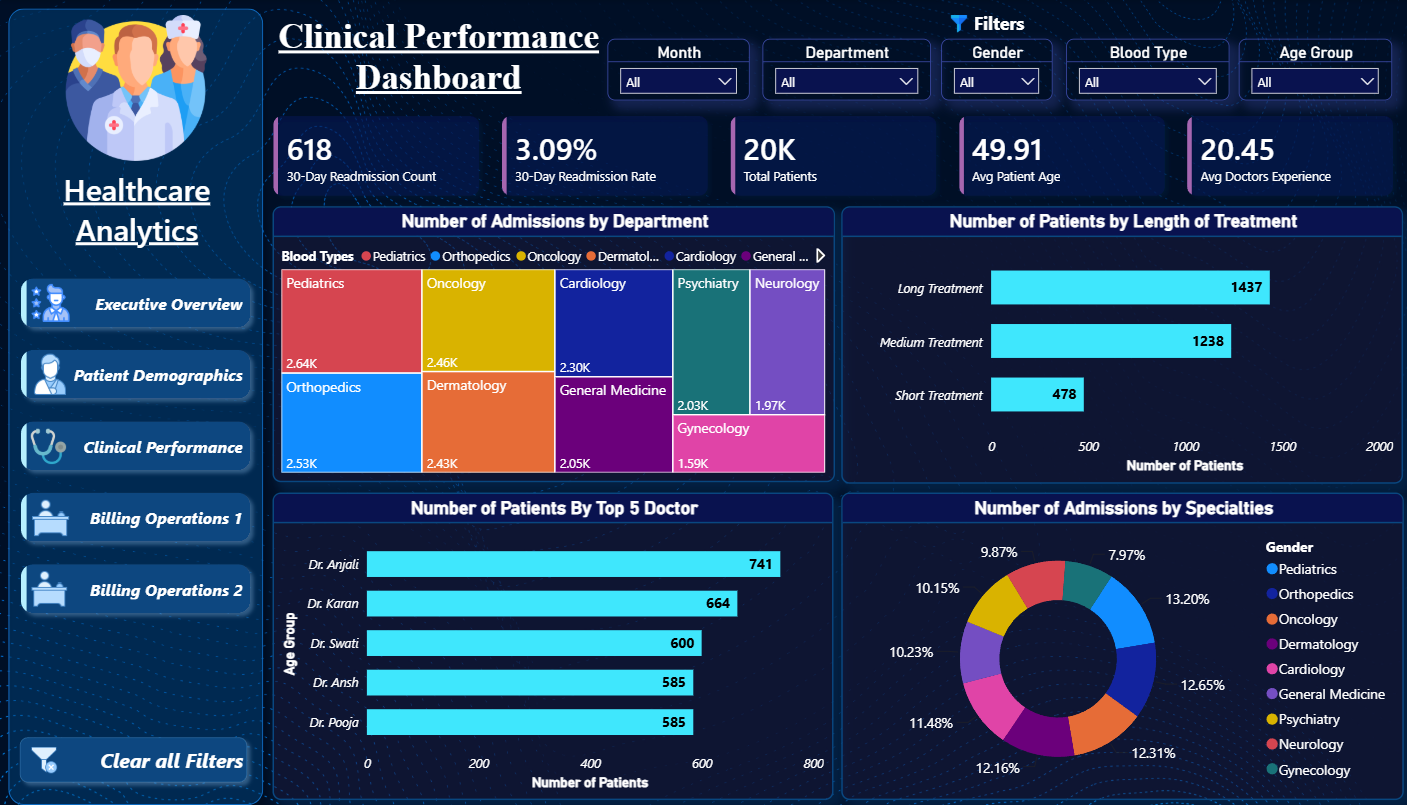

What the dashboard file says about the page in this screenshot:
{"tool":"powerbi","page":{"name":"Clinical Performance","canvas":[1500,860],"ordinal":2},"visuals":[{"type":"group","id":"g1","title":"Group 2","box":[0,0,288.9,865.2],"z":0,"group":"g5"},{"type":"shape","box":[0,0,288.9,865.2],"z":0,"group":"g1"},{"type":"group","id":"g2","title":"Group 4","box":[626.7,0,874.1,125.3],"z":0,"group":"g4"},{"type":"group","id":"g3","title":"Group 3","box":[626.7,0,874.1,125.3],"z":0,"group":"g2"},{"type":"shape","box":[626.7,0,874.1,125.3],"z":0,"group":"g3"},{"type":"cardVisual","fields":{"Data":["measures_.30-Day Readmission Count","measures_.30-Day Readmission Rate","measures_.Total Patients","measures_.Avg Patient Age","measures_.Avg Doctors Experience"]},"box":[273.6,107,1225.9,119.2],"z":0},{"type":"pageNavigator","box":[13.9,287.4,262.3,374.7],"z":0,"group":"g6"},{"type":"group","id":"g4","title":"Group 5","box":[626.7,0,874.3,125.3],"z":1000},{"type":"textbox","box":[633.8,6.7,859.3,41.6],"z":1000,"group":"g2"},{"type":"image","box":[1001.5,16.2,37.4,18.7],"z":1000,"group":"g4"},{"type":"image","box":[58.1,16.6,172.7,155.2],"z":1000,"group":"g1"},{"type":"slicer","title":"Department","fields":{"Values":["admissions.department"]},"box":[812,41.3,179,65.3],"z":1000,"group":"g3"},{"type":"image","box":[30.6,300.7,46.7,43.3],"z":1000,"group":"g6"},{"type":"actionButton","box":[12.2,774.8,259.9,66.2],"z":1000,"group":"g5"},{"type":"group","id":"g5","title":"Group 6","box":[0,0,288.9,865.2],"z":2000},{"type":"slicer","title":"Gender","fields":{"Values":["patients.gender"]},"box":[1001.5,41.3,118.2,65.3],"z":2000,"group":"g3"},{"type":"textbox","box":[16.7,168.3,256.7,116.7],"z":2000,"group":"g1"},{"type":"image","box":[29.6,375.8,48.9,46.7],"z":2000,"group":"g6"},{"type":"image","box":[24.5,793.4,45.4,28.5],"z":2000,"group":"g5"},{"type":"textbox","box":[285.3,0,361.7,125.4],"z":3000},{"type":"slicer","title":"Age Group","fields":{"Values":["patients.age_group"]},"box":[1318.3,41.3,162.9,65.3],"z":3000,"group":"g3"},{"type":"image","box":[30.6,530.7,46.7,41.1],"z":3000,"group":"g6"},{"type":"slicer","title":"Blood Type","fields":{"Values":["patients.bloodtype"]},"box":[1135.1,41.3,173.4,65.3],"z":4000,"group":"g3"},{"type":"treemap","title":"Number of Admissions by Department","fields":{"Group":["admissions.department"],"Values":["CountNonNull(admissions.admissionid)"]},"box":[289.6,219,598,294],"z":4000},{"type":"image","box":[30,606.6,46.7,40],"z":4000,"group":"g6"},{"type":"slicer","title":"Month","fields":{"Values":["Calendar.Month"]},"box":[647,41.3,151.1,65.3],"z":5000,"group":"g3"},{"type":"clusteredBarChart","title":"Number of Patients by Length of Treatment","fields":{"Category":["admissions.stay_category"],"Y":["measures_.Total Admissions"]},"box":[895.4,219.1,597.4,295],"z":5000},{"type":"image","box":[28.9,456.6,47.8,37.8],"z":5000,"group":"g6"},{"type":"clusteredBarChart","title":"Number of Patients By Top 5 Doctor ","fields":{"Category":["doctors.firstname"],"Y":["measures_.Total Admissions"]},"box":[289.6,524.5,596.6,327.1],"z":6000},{"type":"donutChart","title":"Number of Admissions by Specialties","fields":{"Y":["measures_.Total Admissions"],"Category":["doctors.specialty"]},"box":[894.9,524.5,598,327.1],"z":7000},{"type":"group","id":"g6","title":"Group 1","box":[13.9,287.4,262.3,374.7],"z":8000}]}

Visuals, with their boxes in screenshot pixels (x1, y1, x2, y2), scaled from the page's 1500x860 canvas onto the 1407x805 screenshot:
"Group 2" group: box=[0, 0, 271, 804]
shape: box=[0, 0, 271, 804]
"Group 4" group: box=[588, 0, 1406, 117]
"Group 3" group: box=[588, 0, 1406, 117]
shape: box=[588, 0, 1406, 117]
cardVisual - measures_.30-Day Readmission Count x measures_.30-Day Readmission Rate: box=[257, 100, 1406, 212]
pageNavigator: box=[13, 269, 259, 620]
"Group 5" group: box=[588, 0, 1406, 117]
textbox: box=[595, 6, 1401, 45]
image: box=[939, 15, 974, 33]
image: box=[54, 16, 216, 161]
"Department" slicer: box=[762, 39, 930, 100]
image: box=[29, 281, 73, 322]
actionButton: box=[11, 725, 255, 787]
"Group 6" group: box=[0, 0, 271, 804]
"Gender" slicer: box=[939, 39, 1050, 100]
textbox: box=[16, 158, 256, 267]
image: box=[28, 352, 74, 395]
image: box=[23, 743, 66, 769]
textbox: box=[268, 0, 607, 117]
"Age Group" slicer: box=[1237, 39, 1389, 100]
image: box=[29, 497, 73, 535]
"Blood Type" slicer: box=[1065, 39, 1227, 100]
"Number of Admissions by Department" treemap: box=[272, 205, 833, 480]
image: box=[28, 568, 72, 605]
"Month" slicer: box=[607, 39, 749, 100]
"Number of Patients by Length of Treatment" clusteredBarChart: box=[840, 205, 1400, 481]
image: box=[27, 427, 72, 463]
"Number of Patients By Top 5 Doctor " clusteredBarChart: box=[272, 491, 831, 797]
"Number of Admissions by Specialties" donutChart: box=[839, 491, 1400, 797]
"Group 1" group: box=[13, 269, 259, 620]
